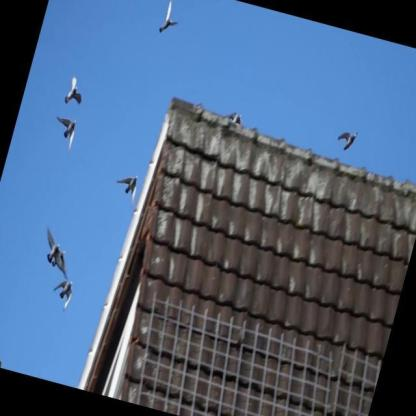bird: (35, 225, 72, 272), (48, 113, 80, 150), (110, 169, 142, 206), (45, 246, 75, 282), (47, 277, 76, 314), (156, 0, 184, 38), (62, 72, 88, 108), (333, 126, 359, 154), (0, 343, 7, 368)
